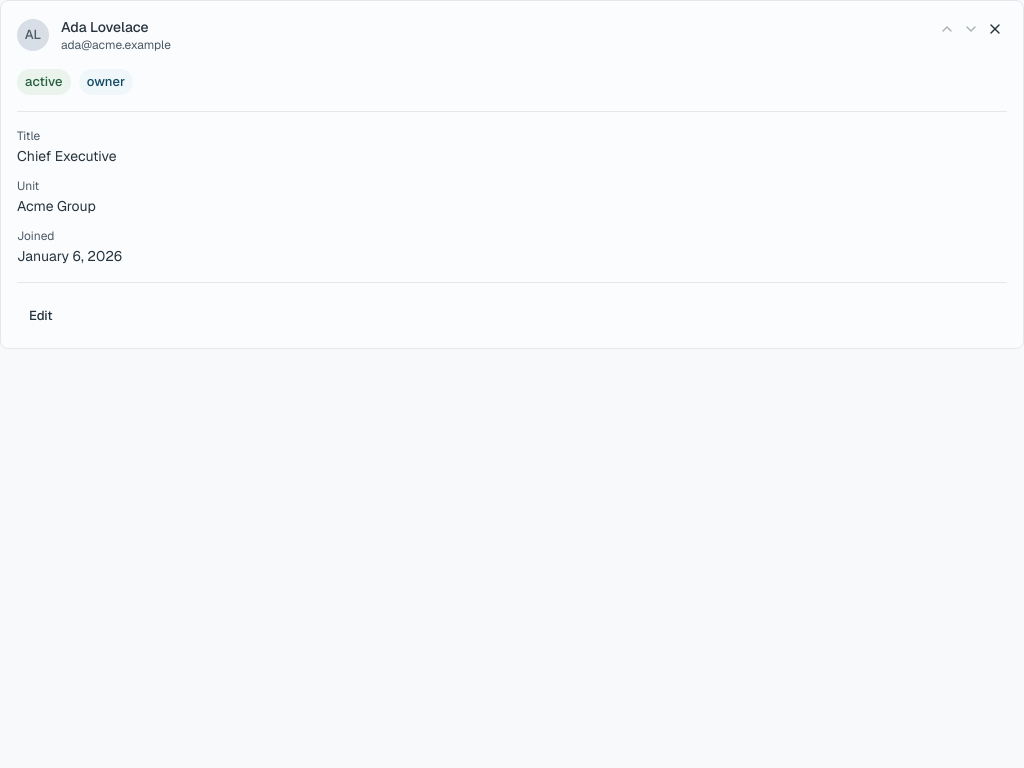
MemberInspector › opens the edit sheet with the contract's fields prefilled
The width and height of the screenshot is (1024, 768).
Step 1. Click the button "Edit" → (41, 316), box x1=17 y1=299 x2=64 y2=332
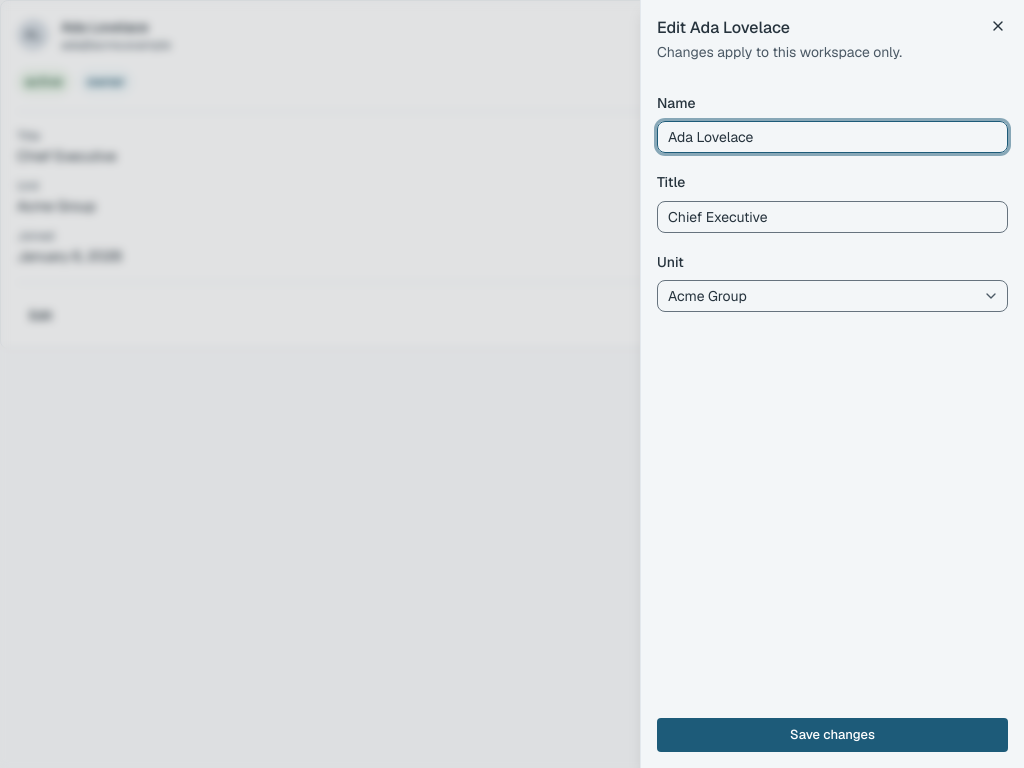
Expected: the heading "Edit Ada Lovelace" is shown, x1=657 y1=17 x2=790 y2=38
Expected: the field labelled "Name" holds "Ada Lovelace", x1=657 y1=121 x2=1008 y2=153
Expected: the field labelled "Title" holds "Chief Executive", x1=657 y1=200 x2=1008 y2=232
